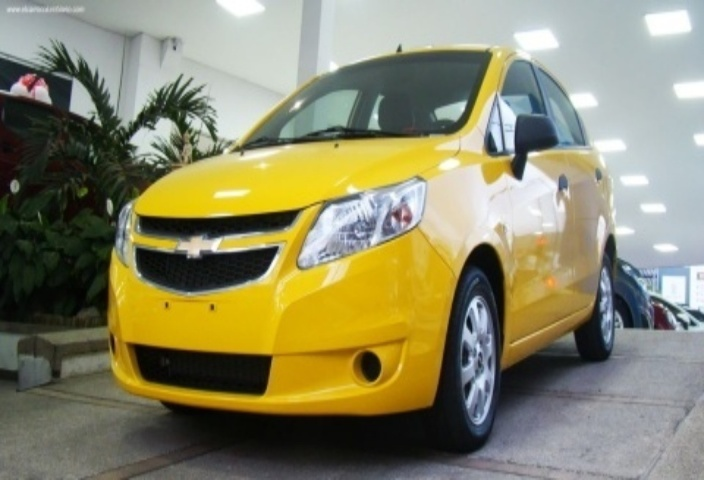taxi: (113, 31, 623, 432)
